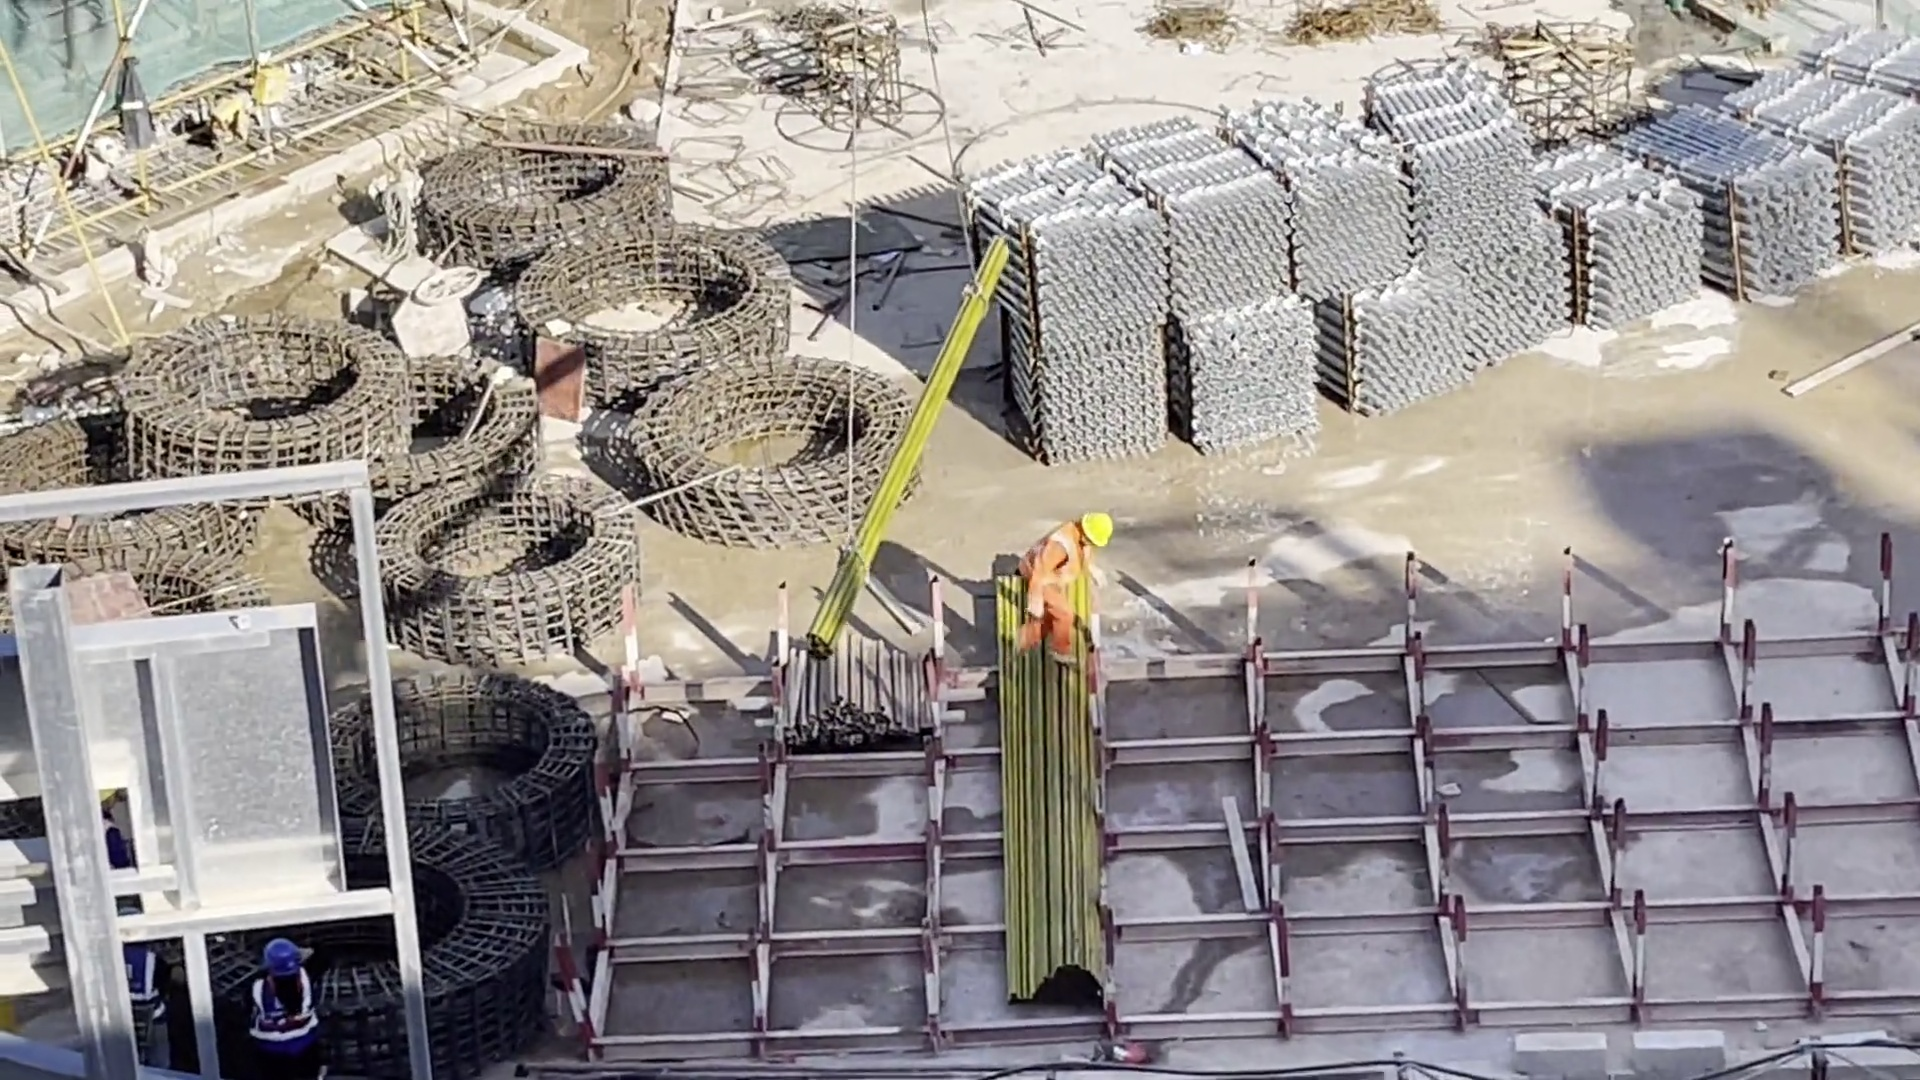helmet: (1075, 503, 1116, 555)
person: (1021, 487, 1115, 702)
scaffold: (963, 26, 1920, 464)
vest: (1033, 528, 1078, 586)
